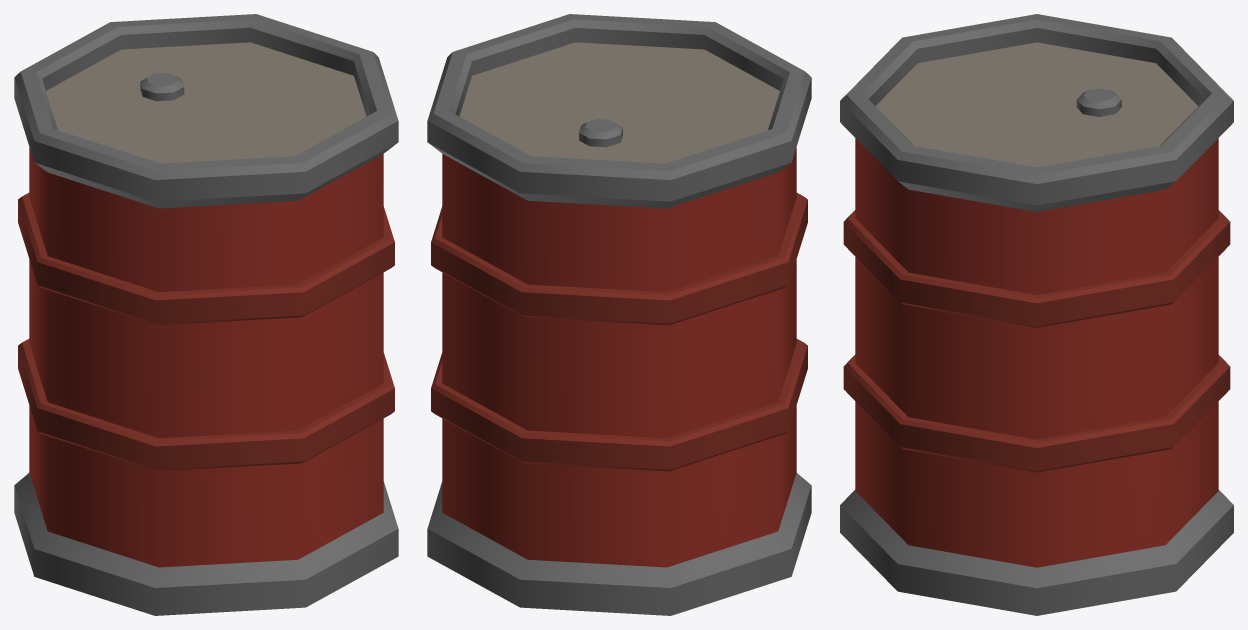
File: Barrel_1_1.glb
The picture shows the model from 3 angles, left to right: view 1: azimuth 30°, elevation 25°; view 2: azimuth 150°, elevation 25°; view 3: azimuth 270°, elevation 25°; orthographic projection.
Visible parts, largest first — view 1: Barrel_1_1; view 2: Barrel_1_1; view 3: Barrel_1_1.
Boxes of the visible parts, <box> form: Barrel_1_1: <box>14,14,398,615</box>; Barrel_1_1: <box>427,14,811,615</box>; Barrel_1_1: <box>840,14,1233,615</box>.
Size of the model in its own units: 0.6748 by 0.83 by 0.6748.
Materials: 2 (2 with a texture image).
